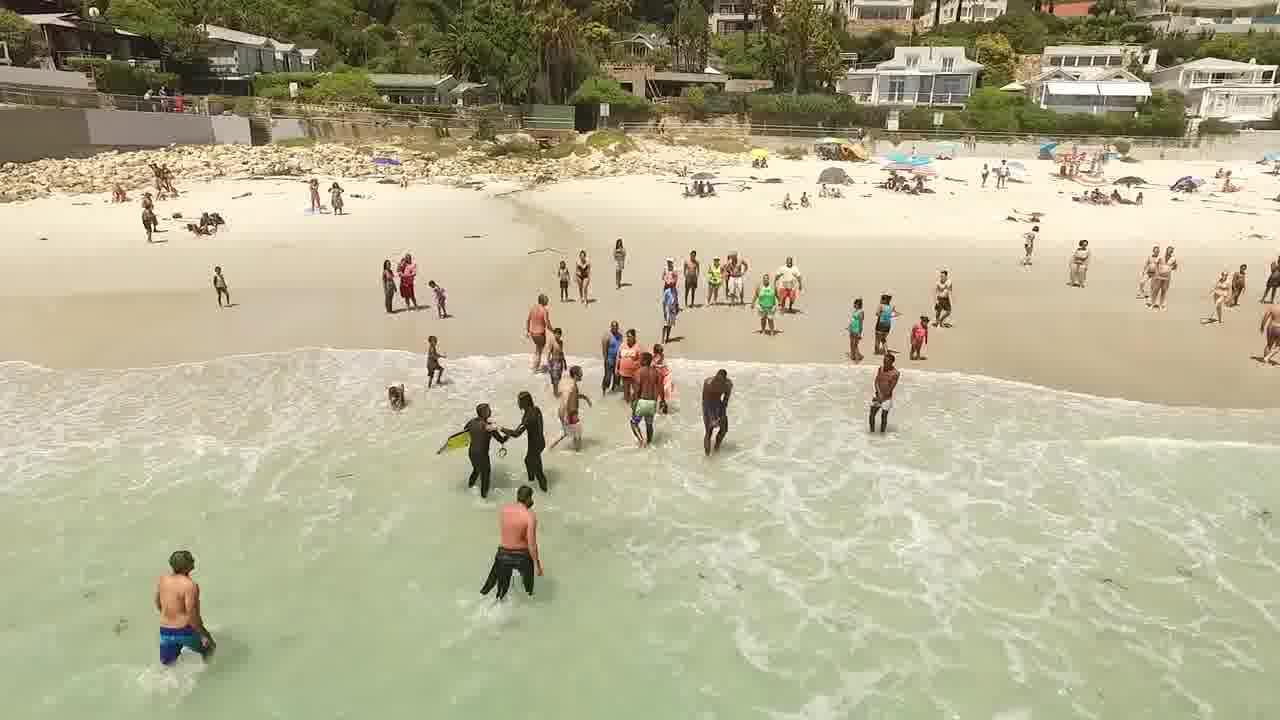swimmer: (155, 537, 225, 663), (494, 491, 552, 592), (700, 367, 751, 451), (460, 402, 507, 484), (866, 354, 909, 437), (507, 396, 551, 473), (556, 364, 587, 450), (628, 359, 662, 432), (522, 296, 549, 349), (599, 315, 618, 373)
